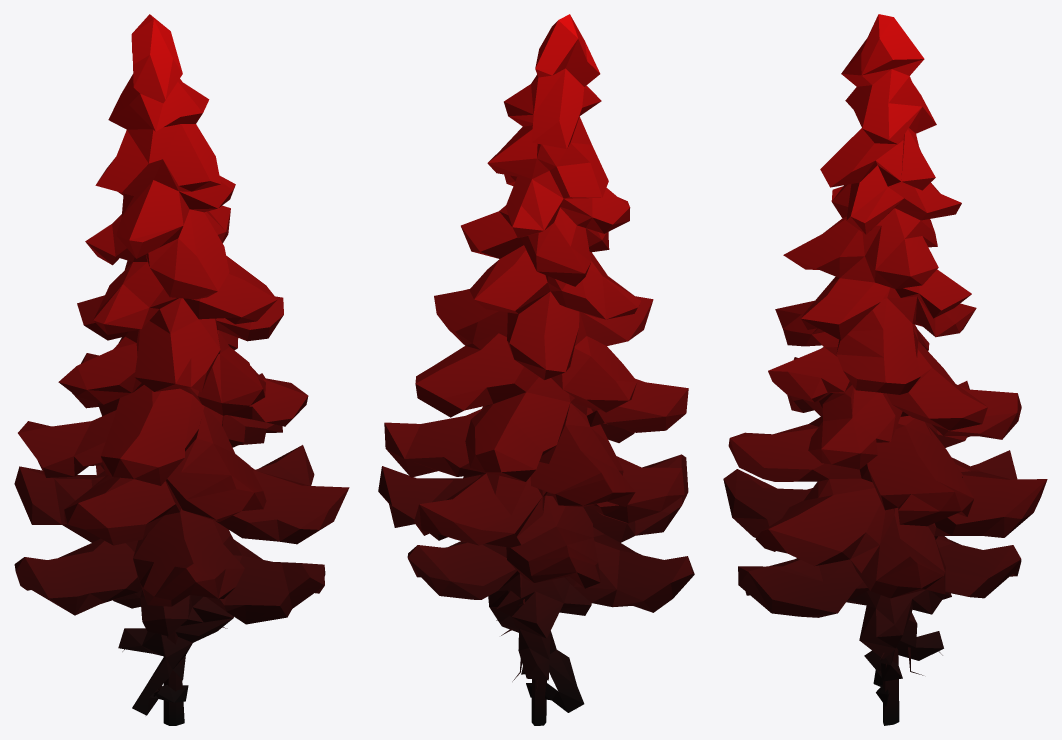
The model's file is TreeSpruce06_Snow.fbx.
3 views of the same model, side by side, from view 1: azimuth 30°, elevation 25°; view 2: azimuth 150°, elevation 25°; view 3: azimuth 270°, elevation 25° (orthographic). The views are drawn at different scales.
Parts seen in each view (by area): view 1: TreeSpruce06_Snow_LOD0; view 2: TreeSpruce06_Snow_LOD0; view 3: TreeSpruce06_Snow_LOD0.
Part boxes in pixels (x1,y1,x2,y2): TreeSpruce06_Snow_LOD0: [14, 14, 349, 725]; TreeSpruce06_Snow_LOD0: [378, 14, 694, 725]; TreeSpruce06_Snow_LOD0: [723, 14, 1047, 725].
Size of what is drawn, in the model's own units: 159 by 360 by 152.
